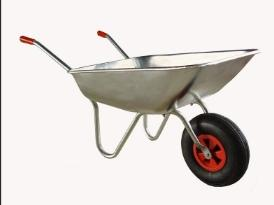BROUETTE: (16, 27, 268, 187)
